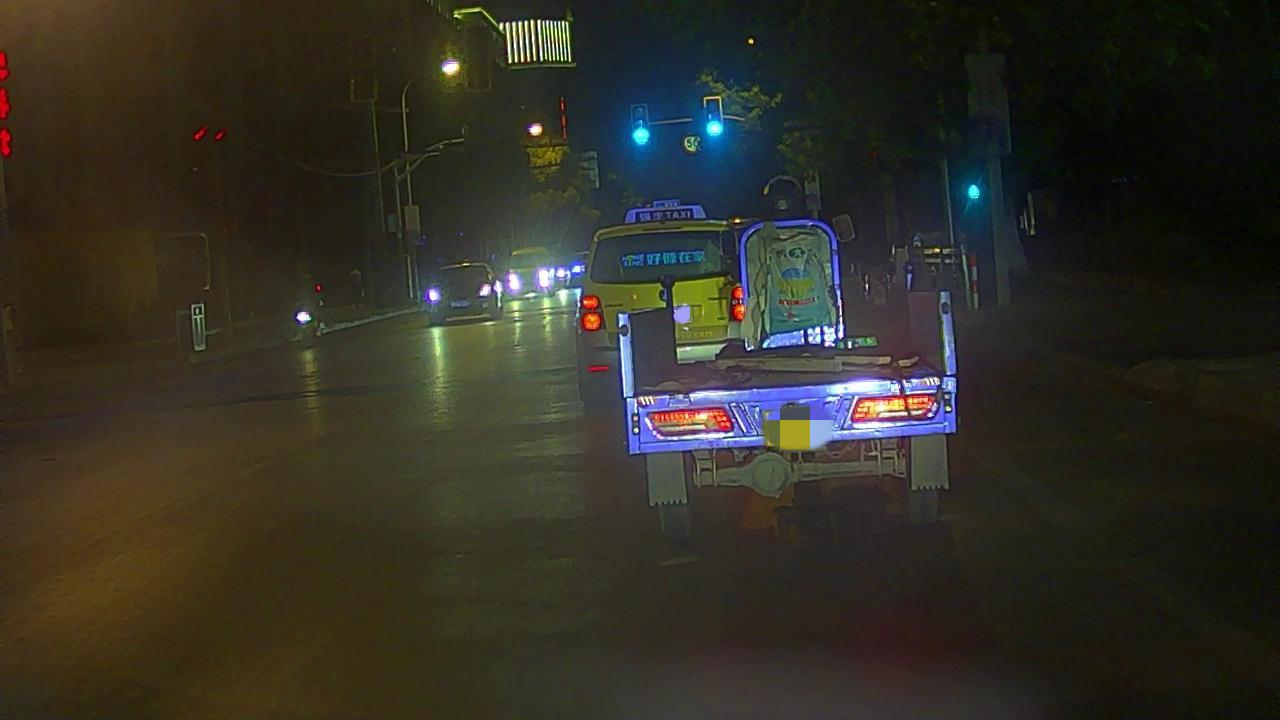traffic_light: (703, 96, 725, 141), (631, 107, 651, 148), (964, 176, 984, 204)
